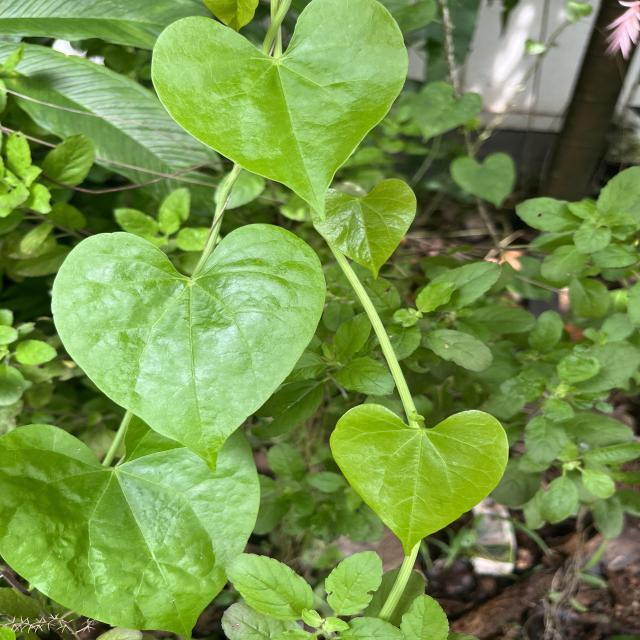Tinospora cordifolia: (47, 217, 331, 478), (146, 1, 414, 226), (2, 410, 264, 640), (324, 400, 512, 560)
